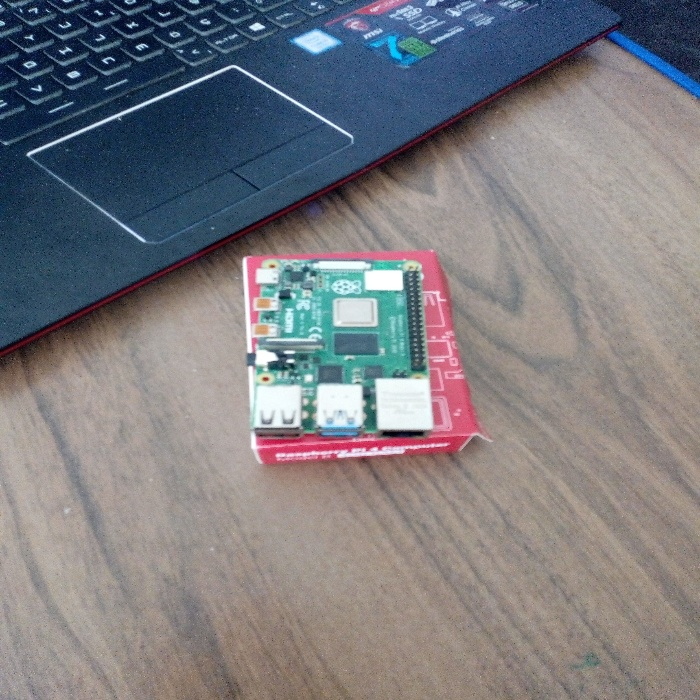raspberry: (230, 249, 445, 442)
